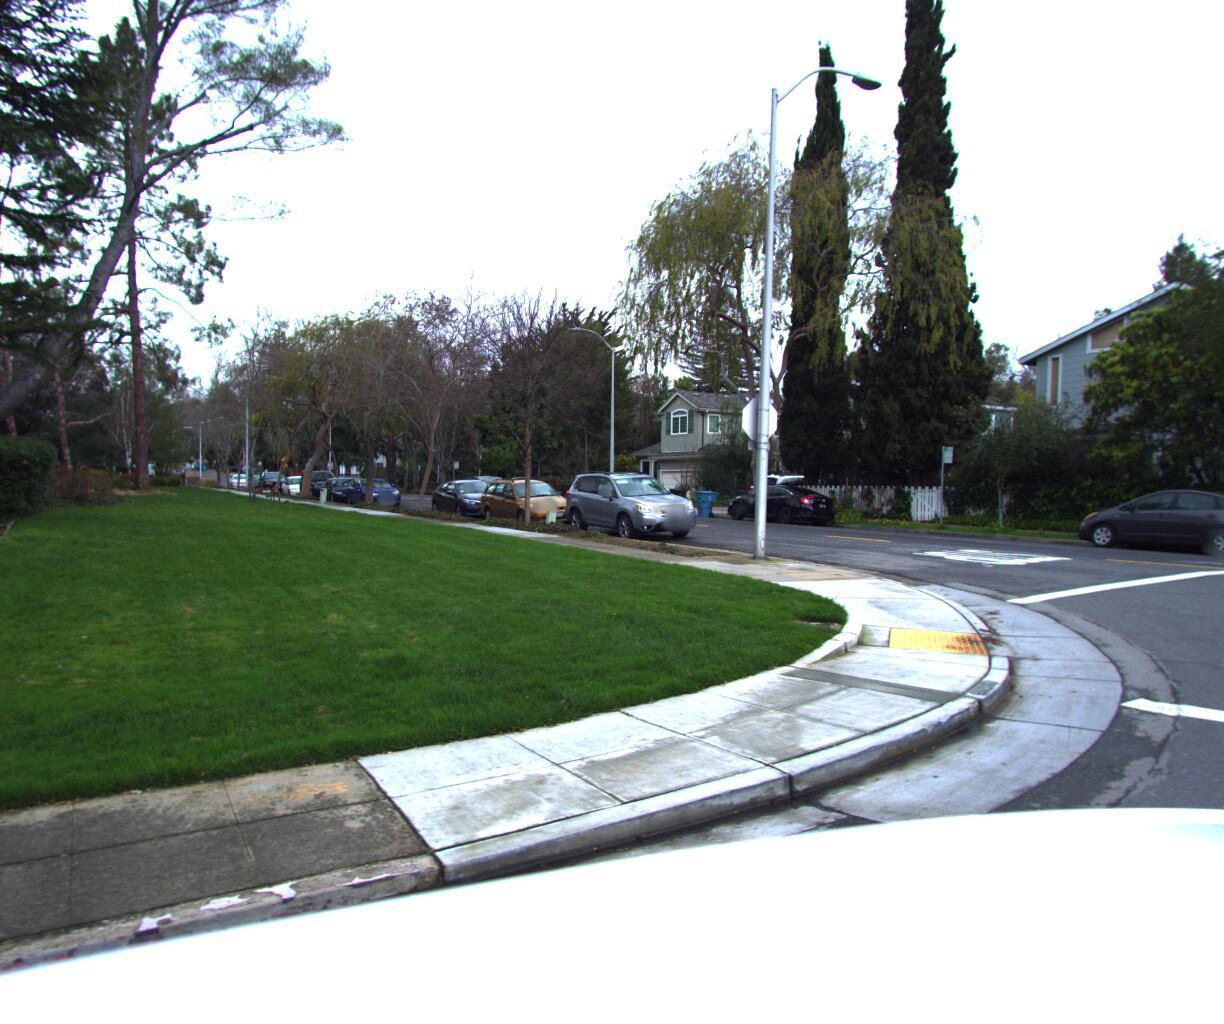car: (558, 468, 708, 547), (1073, 489, 1224, 566), (475, 476, 582, 534), (726, 484, 845, 529), (428, 481, 516, 524), (344, 480, 404, 511), (313, 480, 366, 507), (277, 481, 316, 501), (256, 479, 291, 500)
